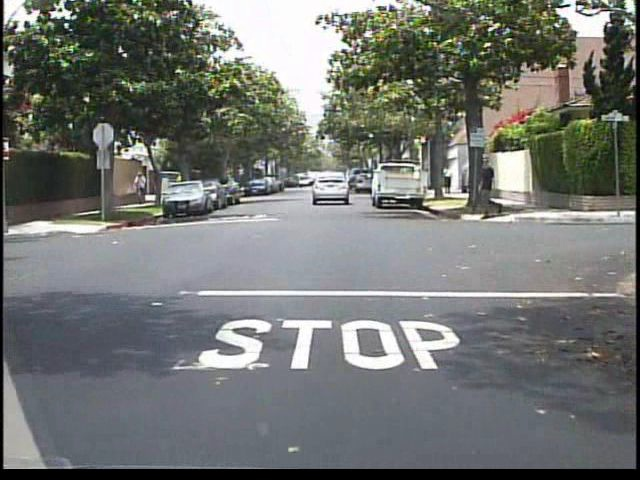person: (474, 153, 505, 219), (132, 171, 153, 206), (440, 161, 455, 199), (172, 171, 189, 204)
